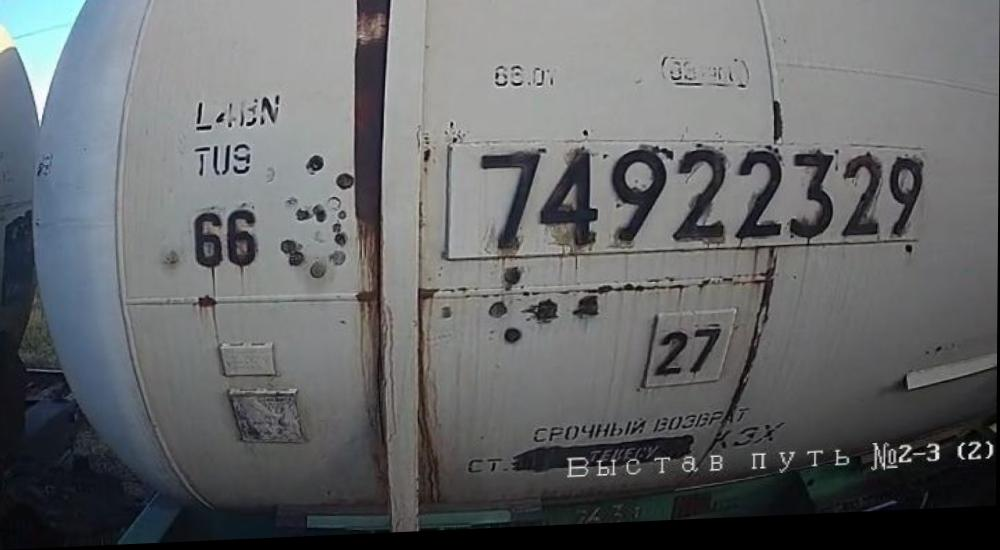Wagon-number: (471, 133, 930, 264)
